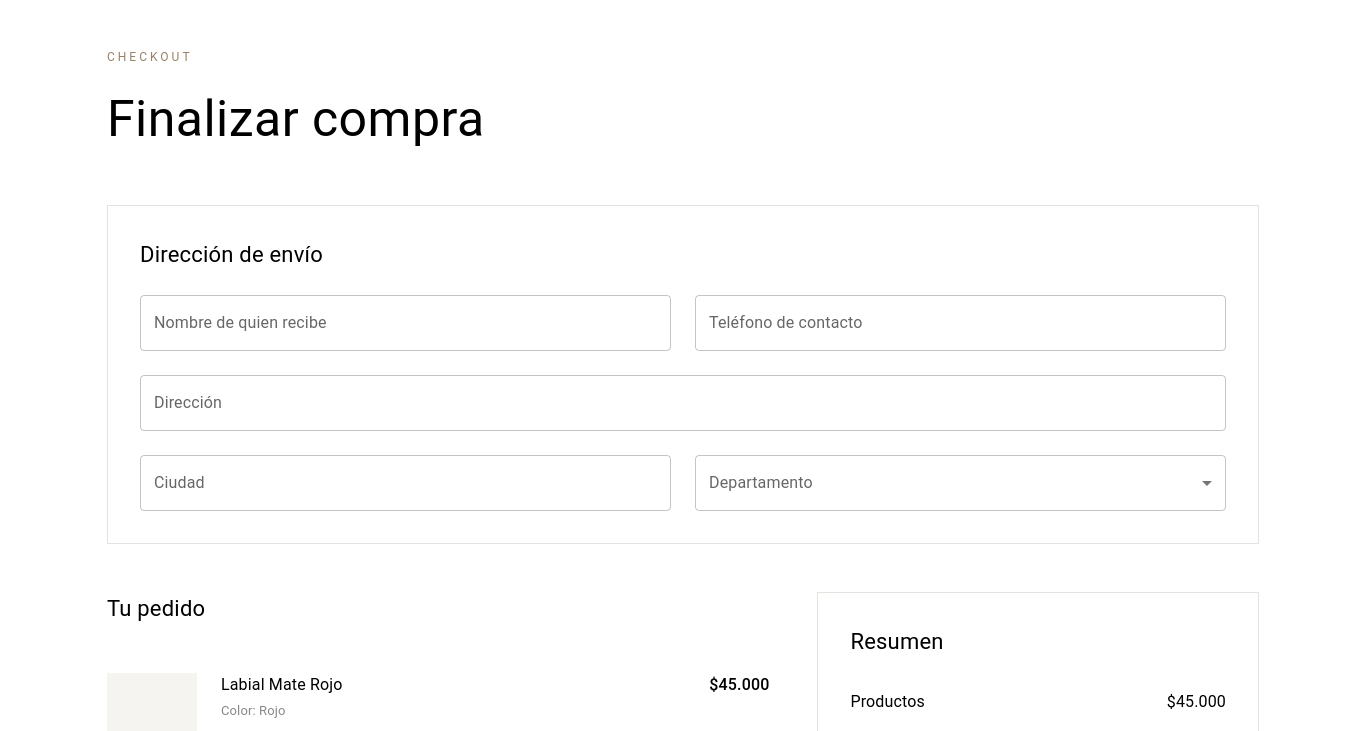
Test: Checkout › shows the Bogotá shipping cost once a city is entered
Step 1. Type "Bogotá" into the field labelled "Ciudad" → (406, 483), box [140, 455, 671, 511]
(page scrolled)
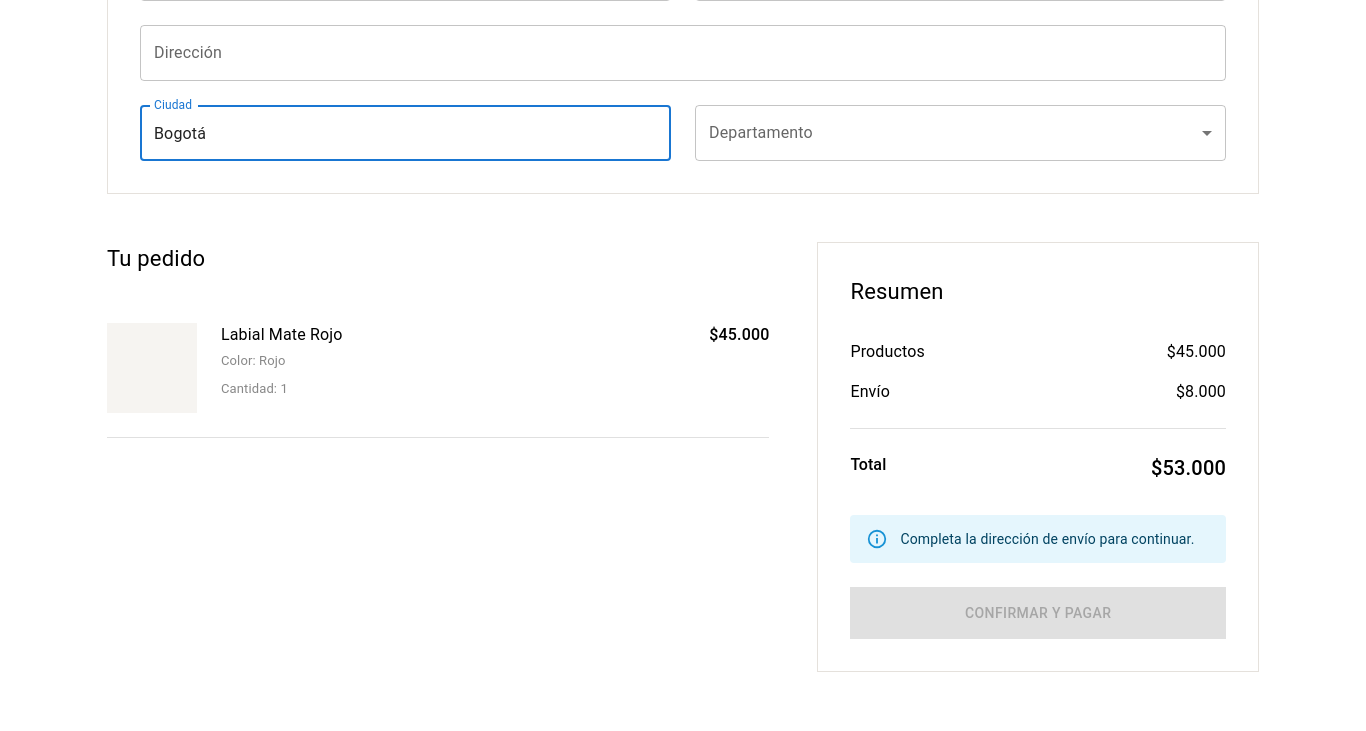
Expected: the text "$8.000" is shown, [1176, 380, 1226, 404]
